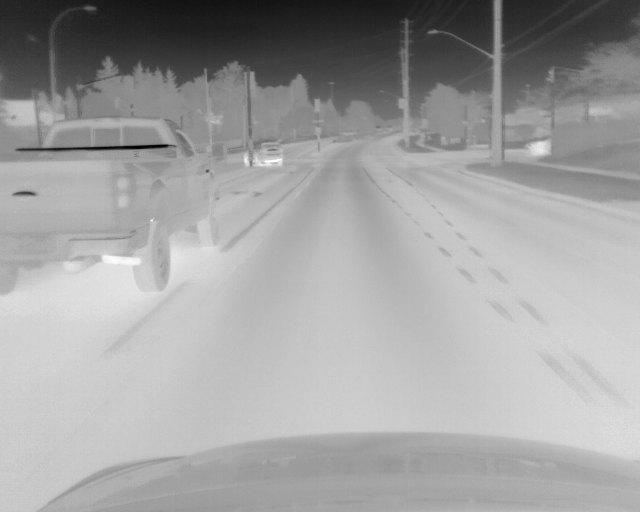car: (1, 115, 219, 295), (258, 141, 284, 167)
